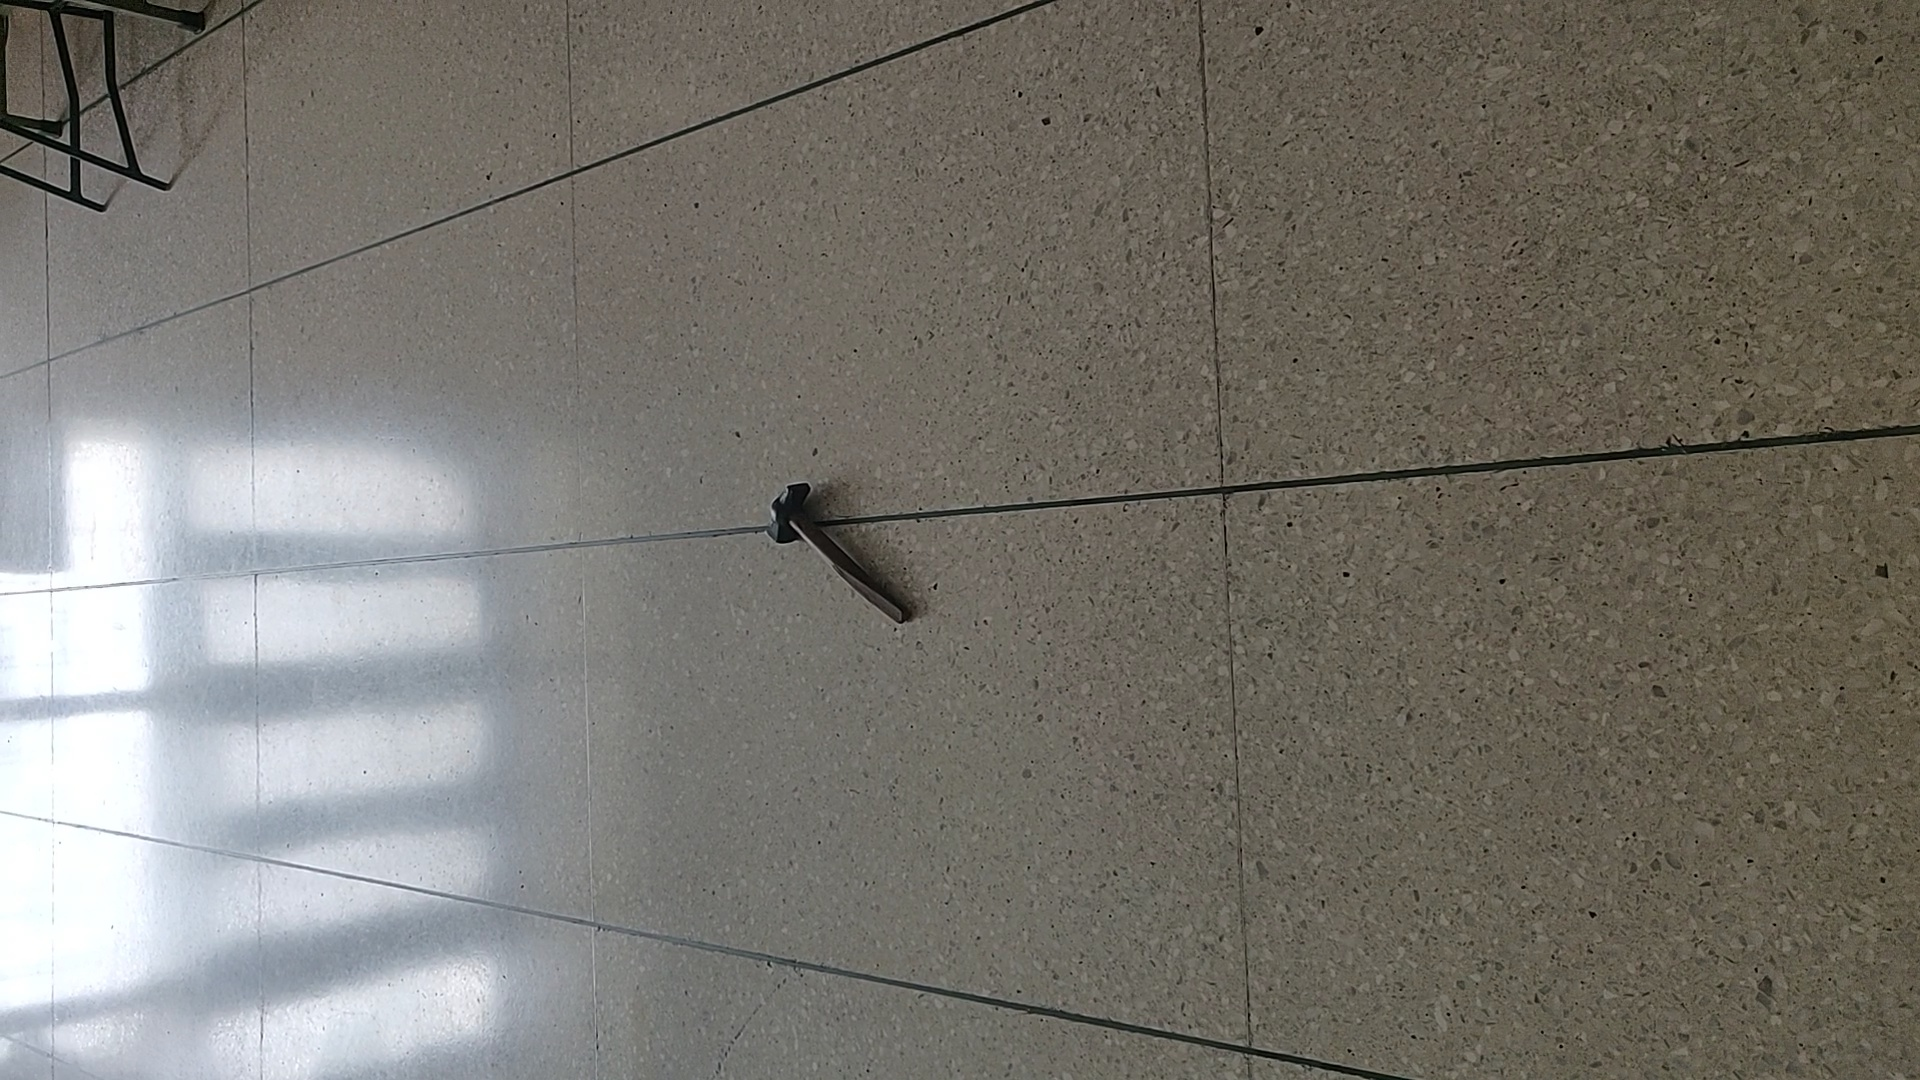hammer: (764, 481, 909, 626)
